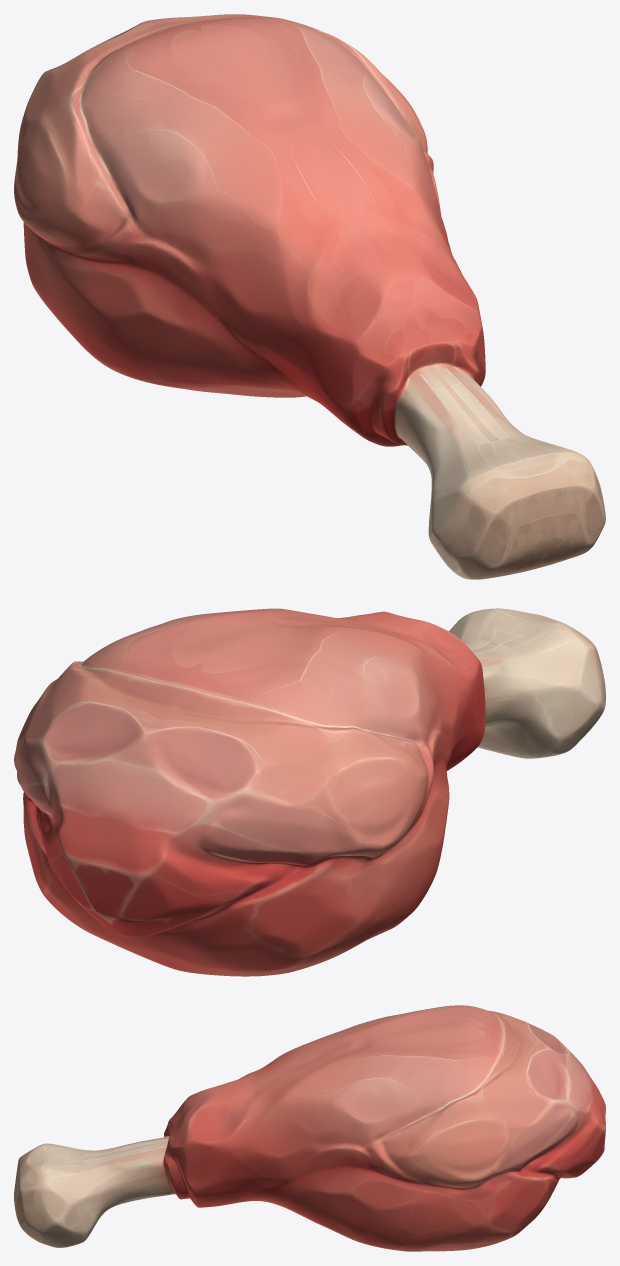
File: Meshy_AI_Ancient_Verdant_Guard_0713000217_texture.fbx
3 renders of one model, top to bottom at view 1: azimuth 30°, elevation 25°; view 2: azimuth 150°, elevation 25°; view 3: azimuth 270°, elevation 25°, orthographic. The views are drawn at different scales.
Parts seen in each view (by area): view 1: Mesh_0; view 2: Mesh_0; view 3: Mesh_0.
Boxes of the visible parts, left/top/right/bottom form: Mesh_0: left=14, top=14, right=605, bottom=579; Mesh_0: left=14, top=608, right=605, bottom=976; Mesh_0: left=14, top=1005, right=605, bottom=1251.
Size of the model in its own units: 91.62 by 73.87 by 190.
1 material, 1 textured.
